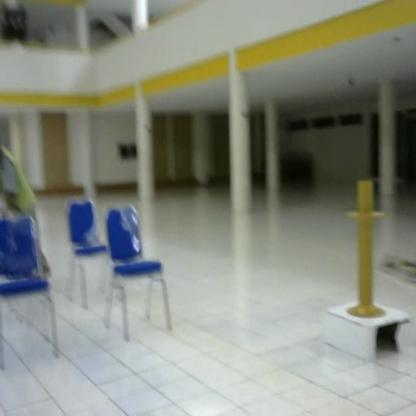pole: (347, 178, 393, 323)
